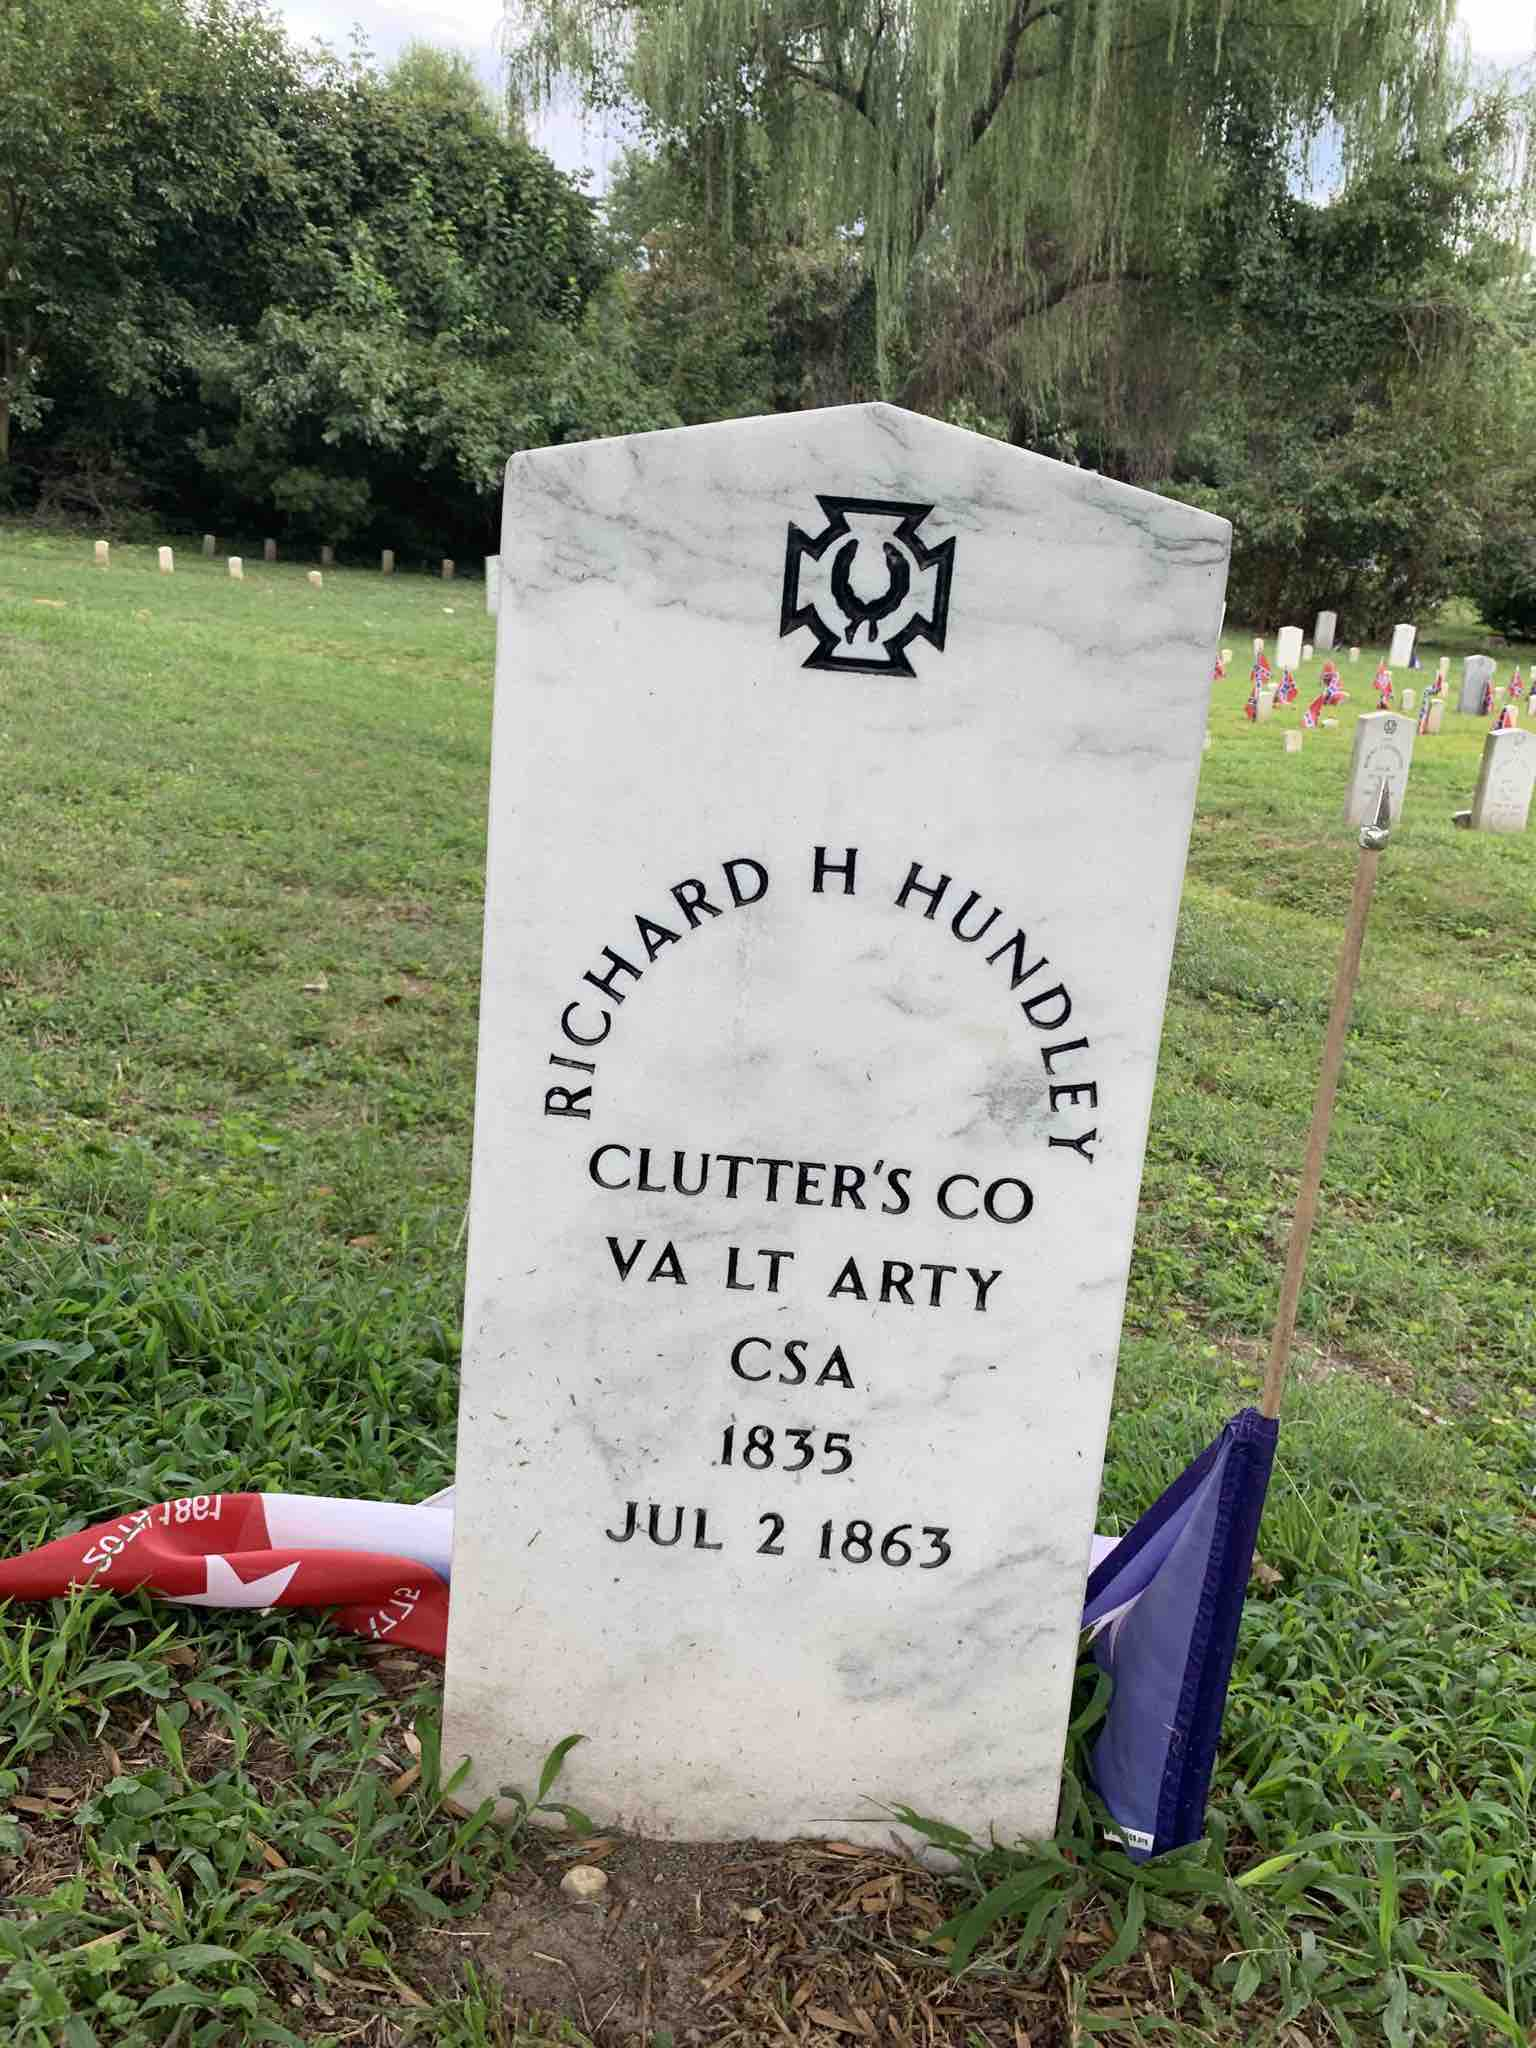military: (437, 405, 1234, 1880)
